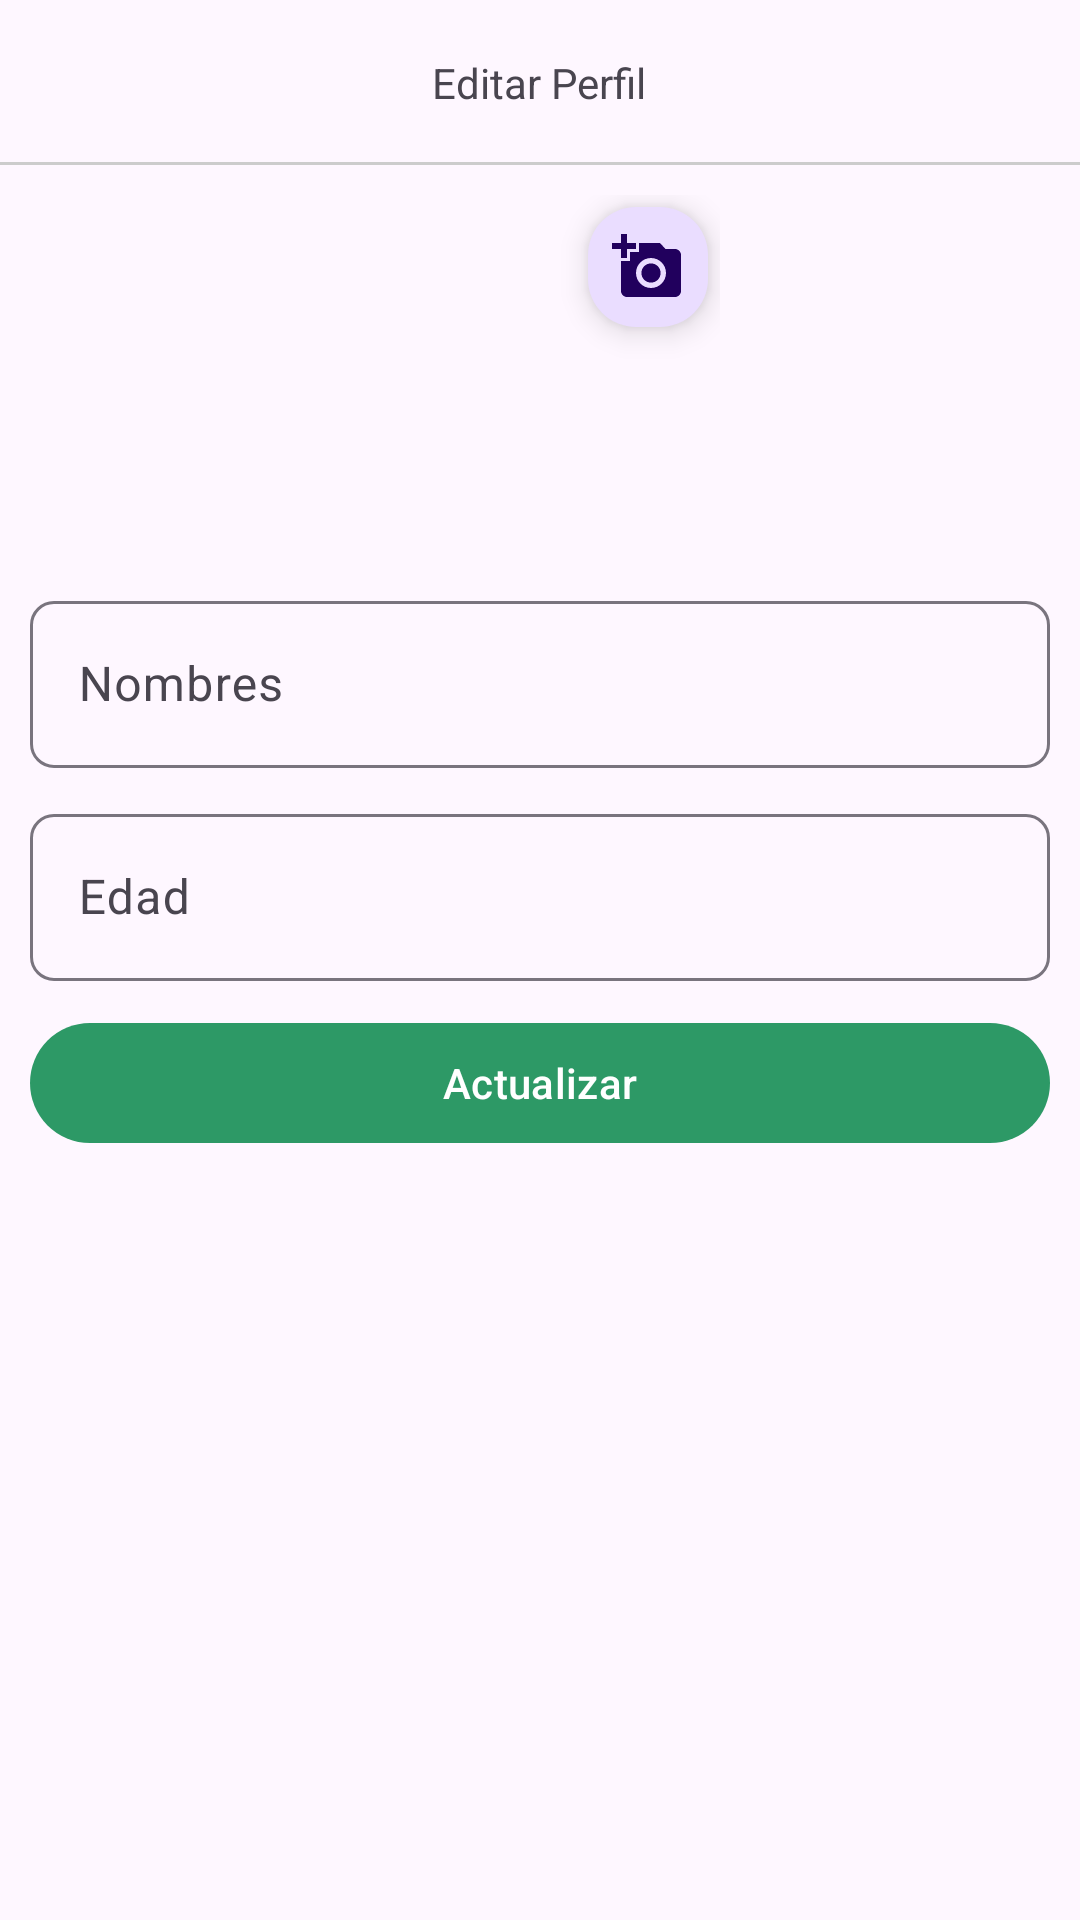

Locate icon controls on the screen. Image size 1080px×1920px, boxes as (x1, y1, x2, y2).
cambiar: (581, 202, 717, 338)
